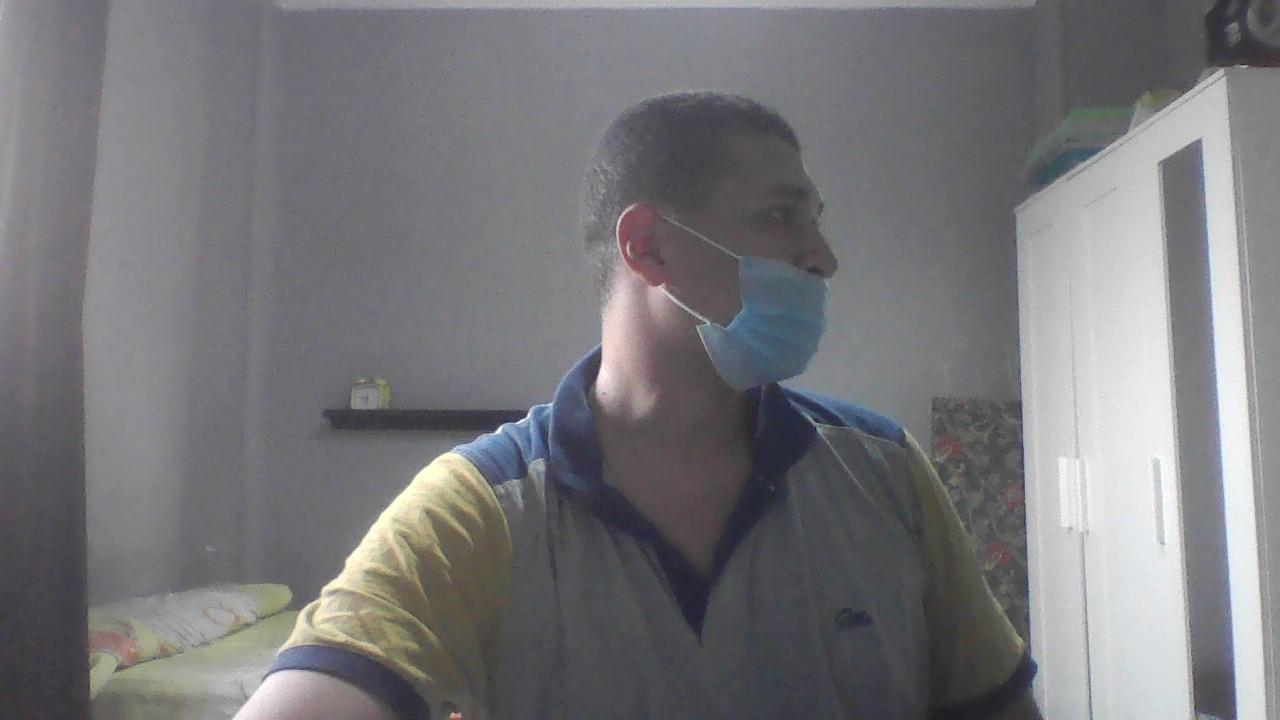mask_weared_incorrect: (664, 115, 862, 398)
